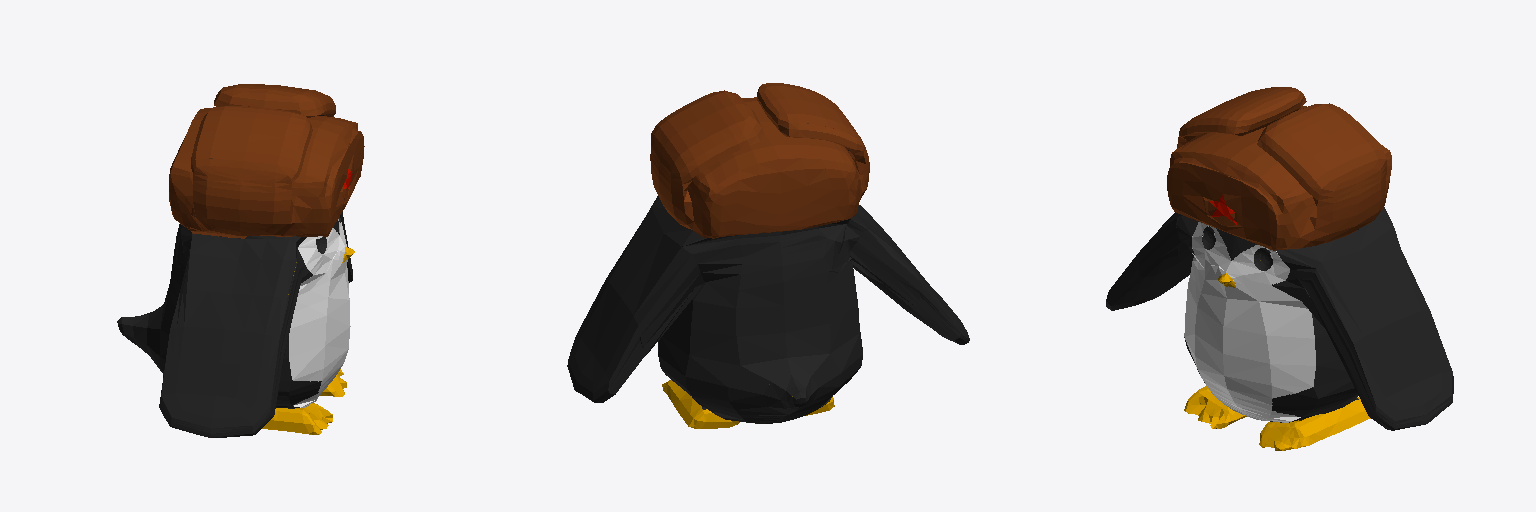
The picture shows the model from 3 angles: view 1: azimuth 30°, elevation 25°; view 2: azimuth 150°, elevation 25°; view 3: azimuth 270°, elevation 25°; orthographic projection.
Parts seen in each view (by area): view 1: polySurface4Shape; view 2: polySurface4Shape; view 3: polySurface4Shape.
Part boxes in pixels (x1,y1,x2,y2): polySurface4Shape: (117,84,364,437); polySurface4Shape: (567,83,969,428); polySurface4Shape: (1106,87,1453,450).
Bounding box in the file's own units: 3.31 × 3.35 × 3.45.
Materials: 1 (1 with a texture image).